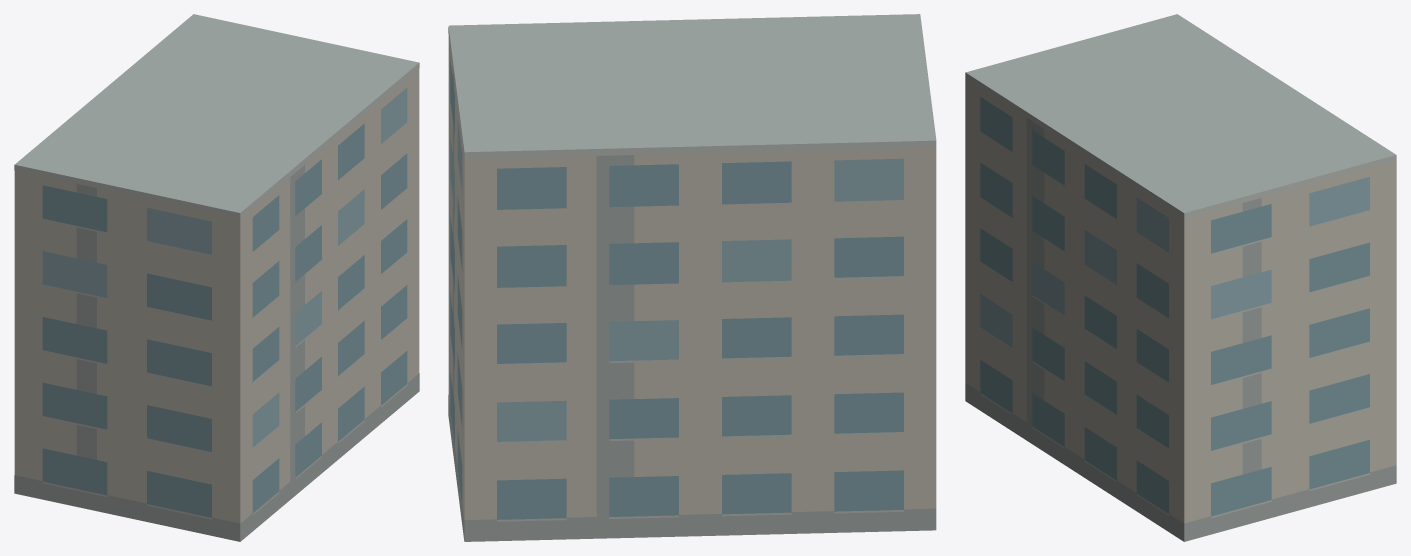
File: residential-bcb36d8d-dff0-48b8-bdea-25420ab0b7d3.glb
The picture shows the model from 3 angles, left to right: view 1: azimuth 30°, elevation 25°; view 2: azimuth 150°, elevation 25°; view 3: azimuth 270°, elevation 25°; orthographic projection. The views are drawn at different scales.
Visible parts, largest first — view 1: residential-bcb36d8d-dff0-48b8-bdea-25420ab0b7d3.tmp; view 2: residential-bcb36d8d-dff0-48b8-bdea-25420ab0b7d3.tmp; view 3: residential-bcb36d8d-dff0-48b8-bdea-25420ab0b7d3.tmp.
Boxes of the visible parts, x1=… form: residential-bcb36d8d-dff0-48b8-bdea-25420ab0b7d3.tmp: x1=14, y1=14, x2=419, y2=541; residential-bcb36d8d-dff0-48b8-bdea-25420ab0b7d3.tmp: x1=448, y1=14, x2=936, y2=541; residential-bcb36d8d-dff0-48b8-bdea-25420ab0b7d3.tmp: x1=965, y1=14, x2=1396, y2=541.
Size of the model in its own units: 17.68 by 13.6 by 16.17.
